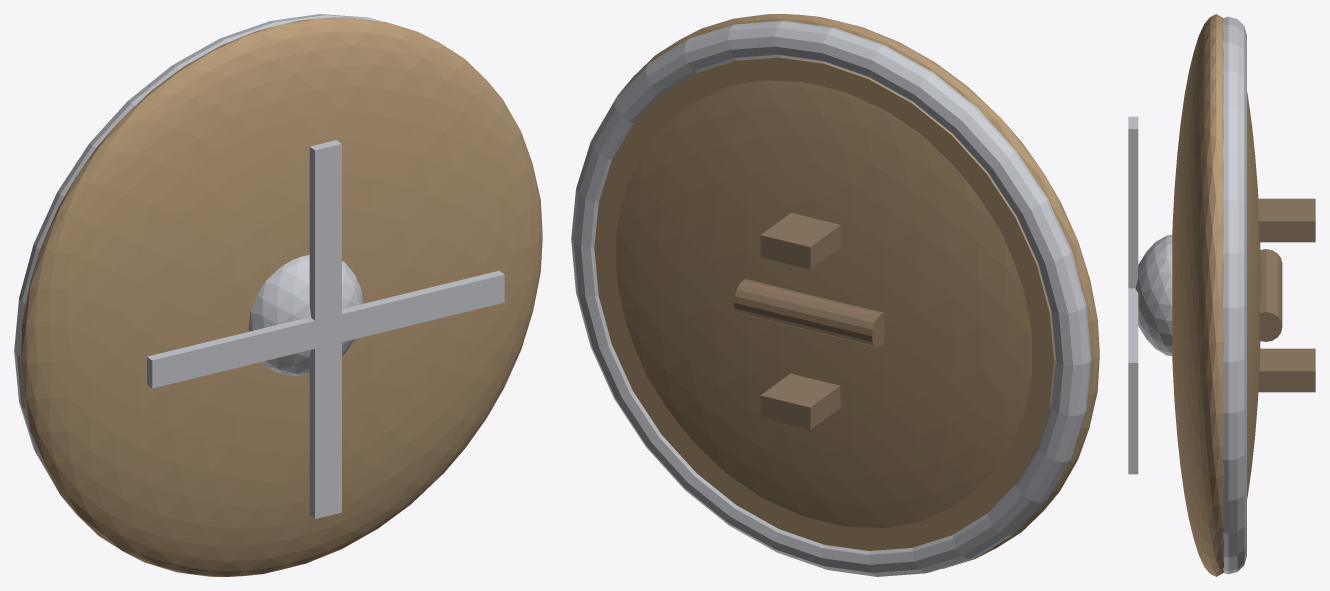
File: temp_shield.glb
3 renders of one model, left to right at view 1: azimuth 30°, elevation 25°; view 2: azimuth 150°, elevation 25°; view 3: azimuth 270°, elevation 25°, orthographic. The views are drawn at different scales.
Parts seen in each view (by area): view 1: ShieldFace, BraceV, BraceH, Boss, ShieldRim; view 2: ShieldFace, ShieldRim, ShieldBackCore, Handle, Strap2, Strap1; view 3: ShieldFace, ShieldRim, Boss, BraceV, Strap2, Strap1, Handle, BraceH.
Part boxes in pixels (bbox=[...]): ShieldFace: bbox=[20, 17, 542, 576]; BraceV: bbox=[309, 140, 341, 518]; BraceH: bbox=[147, 270, 504, 388]; Boss: bbox=[248, 255, 363, 375]; ShieldRim: bbox=[14, 14, 382, 471]; ShieldFace: bbox=[614, 14, 1099, 568]; ShieldRim: bbox=[571, 20, 1091, 576]; ShieldBackCore: bbox=[594, 56, 1054, 550]; Handle: bbox=[734, 279, 884, 347]; Strap2: bbox=[760, 212, 840, 269]; Strap1: bbox=[760, 373, 840, 429]; ShieldFace: bbox=[1172, 14, 1260, 576]; ShieldRim: bbox=[1222, 16, 1246, 574]; Boss: bbox=[1135, 235, 1172, 355]; BraceV: bbox=[1128, 116, 1138, 474]; Strap2: bbox=[1258, 198, 1315, 242]; Strap1: bbox=[1258, 348, 1315, 392]; Handle: bbox=[1259, 249, 1282, 341]; BraceH: bbox=[1128, 288, 1138, 388].
Bounding box in the file's own units: 0.68 × 0.68 × 0.226.
